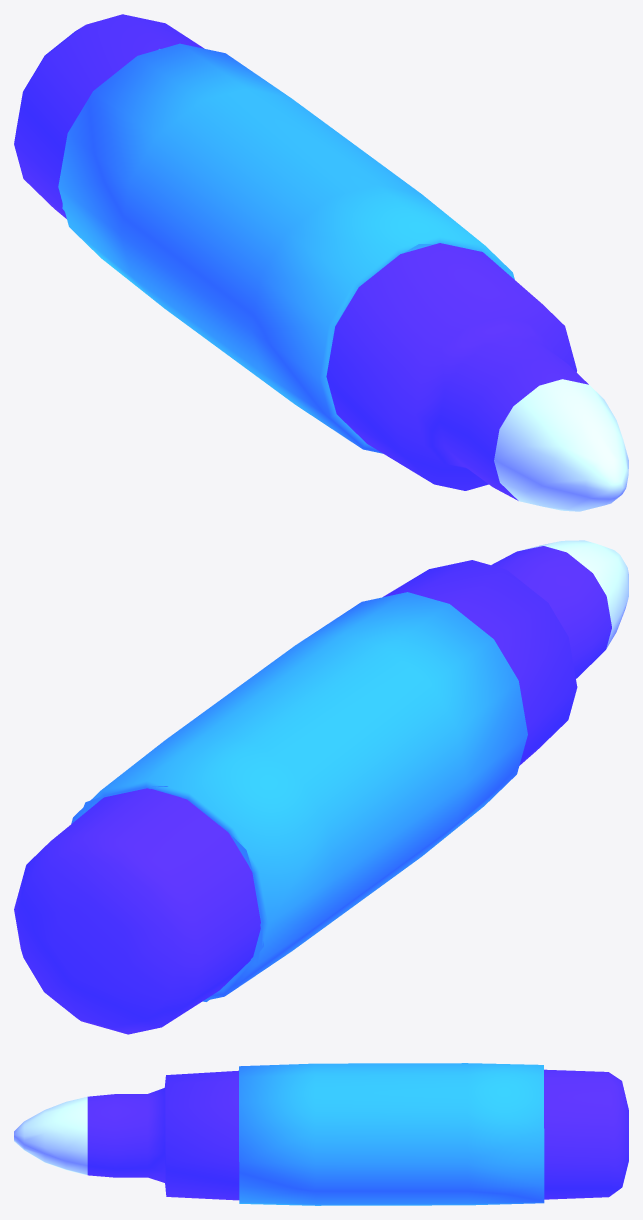
3 views of the same model, one above another, from view 1: azimuth 30°, elevation 25°; view 2: azimuth 150°, elevation 25°; view 3: azimuth 270°, elevation 25° (orthographic). The views are drawn at different scales.
Parts seen in each view (by area): view 1: cylinder23; view 2: cylinder23; view 3: cylinder23.
Boxes of the visible parts, x1,y1,x2,y2 form: cylinder23: (14,14,628,511); cylinder23: (14,540,628,1034); cylinder23: (14,1063,628,1205).
Size of the model in its own units: 6.49 by 6.4 by 27.63.
